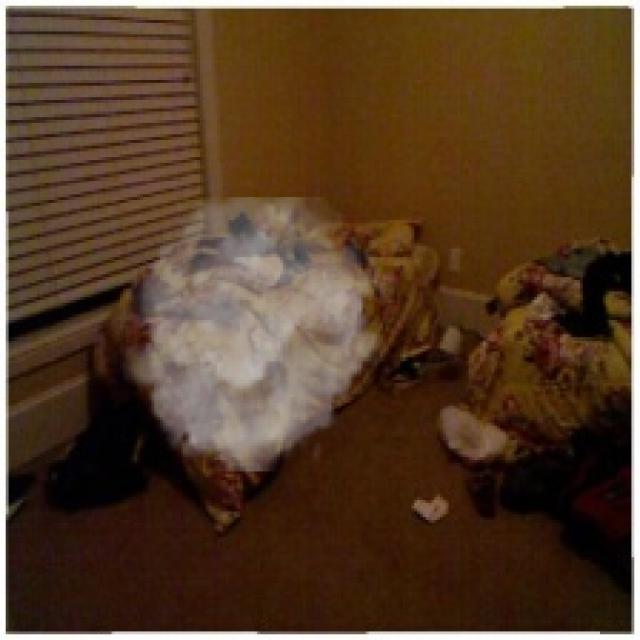smoke: (120, 197, 389, 472)
